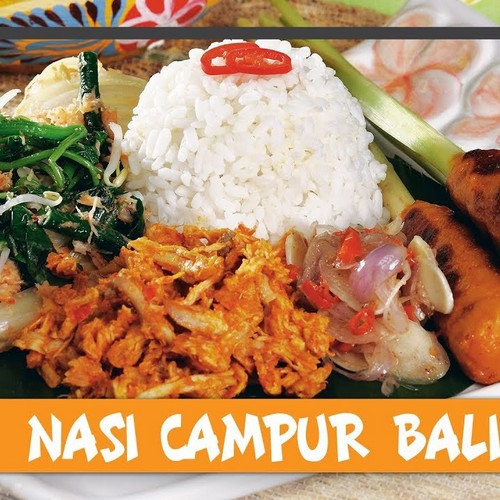nasi campur bali: (20, 62, 500, 395)
